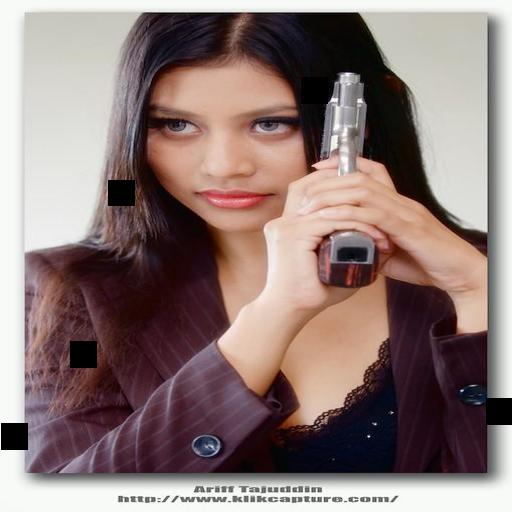Handgun: (297, 61, 386, 291)
